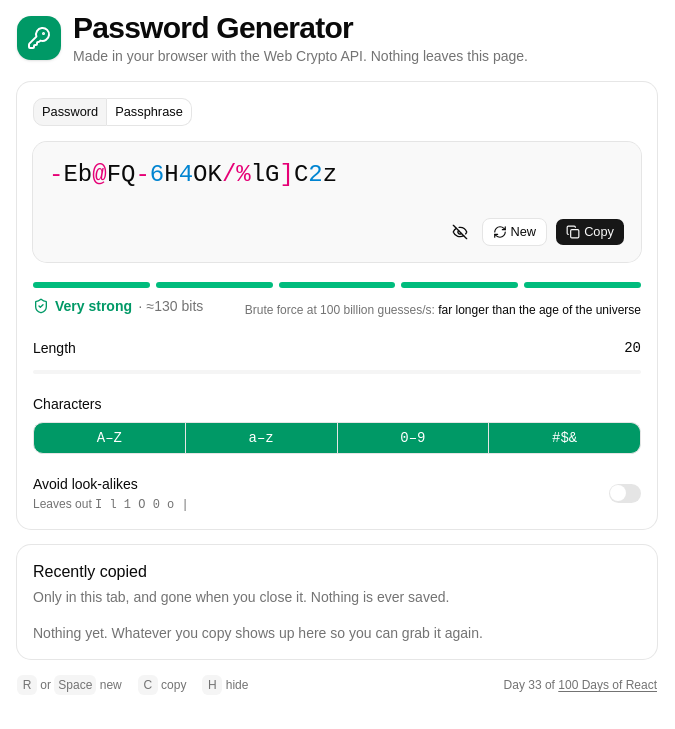
Test case: hiding and remembering › masks the result and the copied list with the button and H
The width and height of the screenshot is (675, 729).
Click the button "Copy".
click(590, 232)  # box [555, 218, 625, 246]
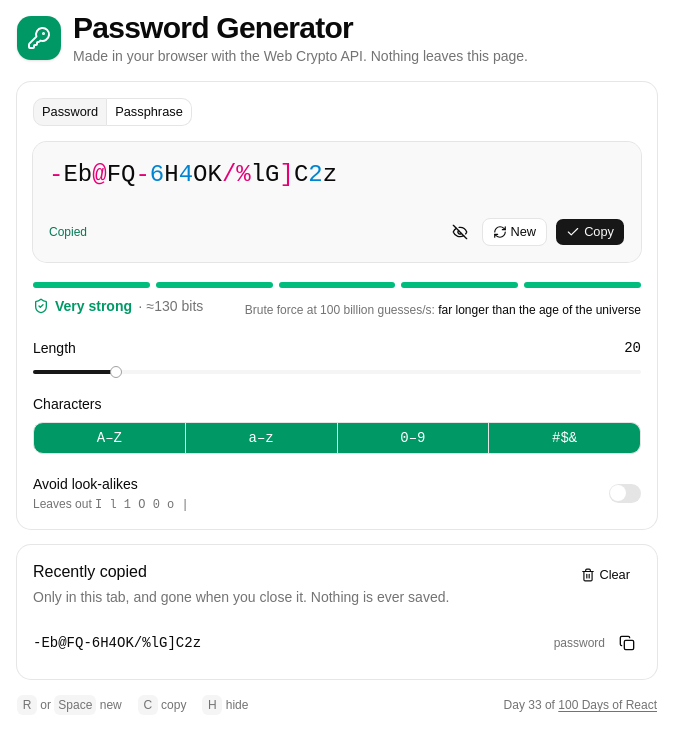
Click the button named "Hide password".
click(460, 232)  # box [446, 218, 474, 246]
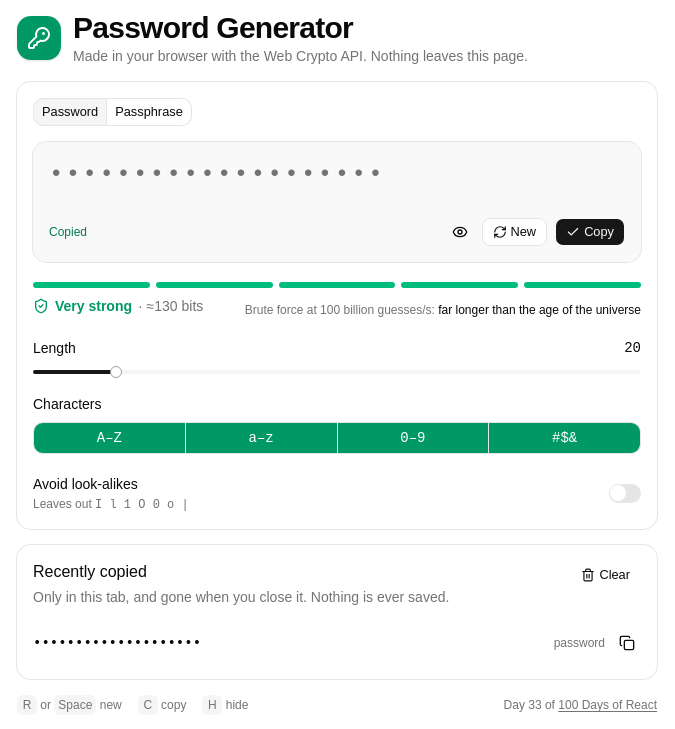
Press c
Press h
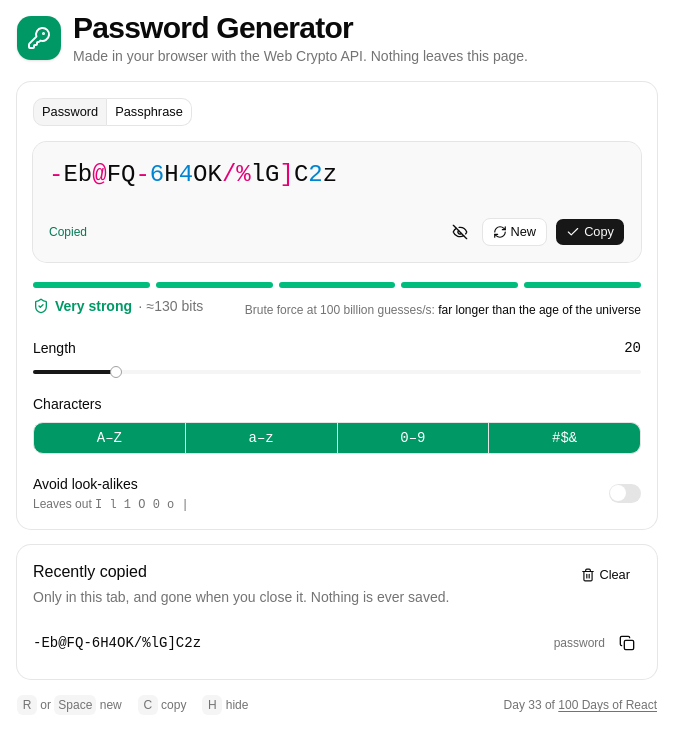
expect the button named "Hide password" is shown: met, box [446, 218, 474, 246]
